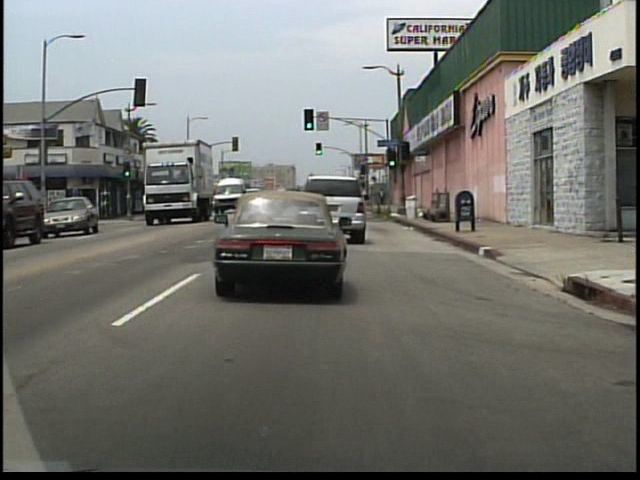person: (52, 197, 64, 229), (377, 188, 386, 207)
